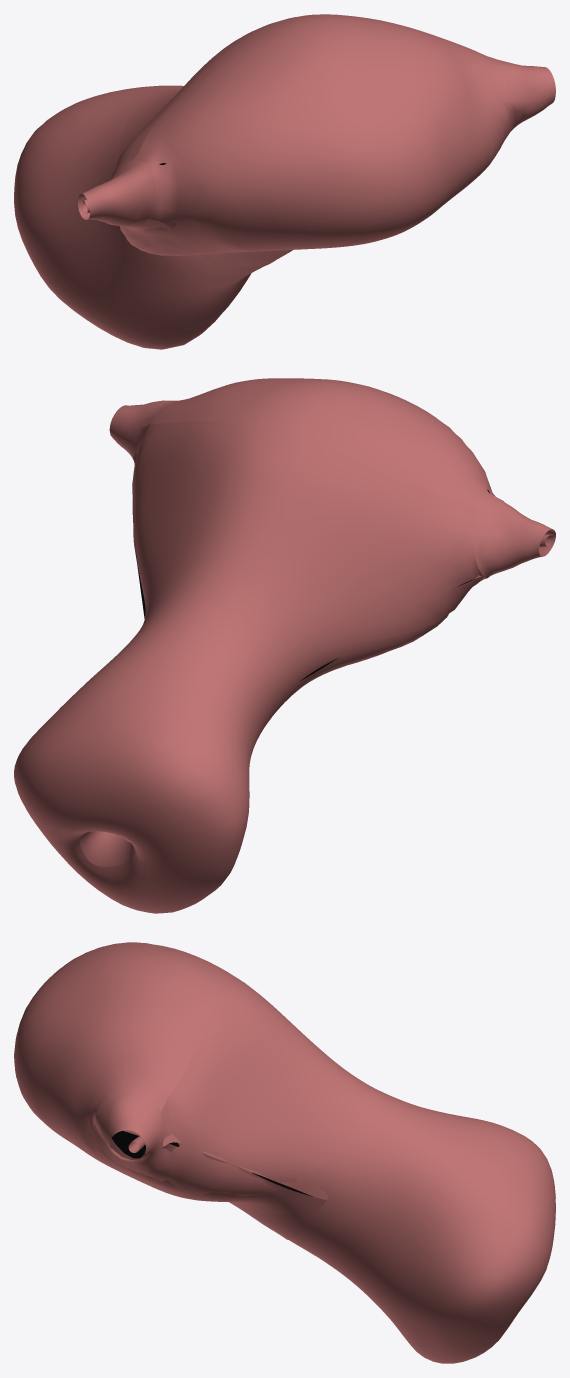
Rendered from VH_F_Uterus.fbx.
3 renders of one model, top to bottom at view 1: azimuth 30°, elevation 25°; view 2: azimuth 150°, elevation 25°; view 3: azimuth 270°, elevation 25°, orthographic. The views are drawn at different scales.
Parts seen in each view (by area): view 1: VH_F_fundus_of_uterus, VH_F_cervix, VH_F_cornua, VH_F_posterior_wall_of_uterus, VH_F_lower_uterine_segment, VH_F_body_of_uterus; view 2: VH_F_body_of_uterus, VH_F_cervix, VH_F_fundus_of_uterus, VH_F_lower_uterine_segment, VH_F_cornua, VH_F_external_cervical_os; view 3: VH_F_cervix, VH_F_body_of_uterus, VH_F_fundus_of_uterus, VH_F_lower_uterine_segment, VH_F_posterior_wall_of_uterus, VH_F_cornua, VH_F_anterior_wall_of_uterus.
Part boxes in pixels (x1,y1,x2,y2): VH_F_fundus_of_uterus: [132, 14, 516, 249]; VH_F_cervix: [14, 85, 251, 349]; VH_F_cornua: [78, 58, 555, 227]; VH_F_posterior_wall_of_uterus: [140, 147, 500, 269]; VH_F_lower_uterine_segment: [119, 87, 262, 285]; VH_F_body_of_uterus: [114, 18, 511, 267]; VH_F_body_of_uterus: [132, 421, 486, 694]; VH_F_cervix: [14, 642, 261, 913]; VH_F_fundus_of_uterus: [142, 378, 495, 513]; VH_F_lower_uterine_segment: [124, 600, 296, 737]; VH_F_cornua: [109, 400, 555, 578]; VH_F_external_cervical_os: [79, 831, 136, 866]; VH_F_cervix: [332, 1106, 555, 1363]; VH_F_body_of_uterus: [115, 962, 366, 1213]; VH_F_fundus_of_uterus: [14, 942, 217, 1163]; VH_F_lower_uterine_segment: [289, 1083, 419, 1266]; VH_F_posterior_wall_of_uterus: [40, 1119, 326, 1239]; VH_F_cornua: [95, 942, 164, 1164]; VH_F_anterior_wall_of_uterus: [162, 1134, 328, 1199].
Bounding box in the file's own units: 5.25 × 4.7 × 5.87.
